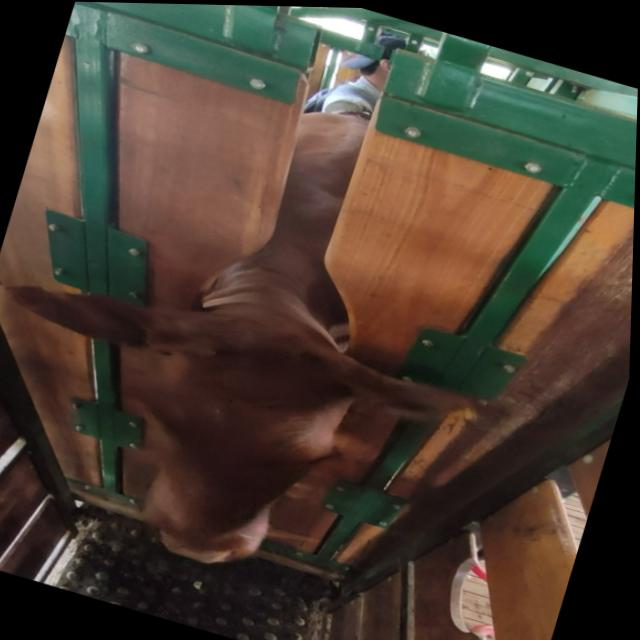cowFace: (103, 294, 377, 594)
